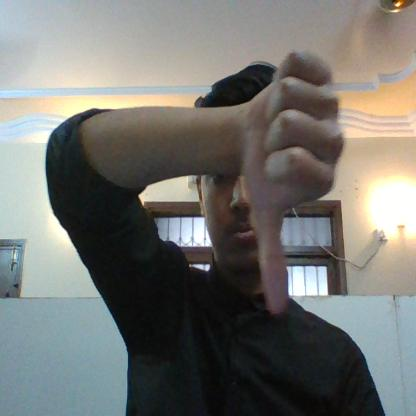thumbs-down: (243, 49, 341, 315)
